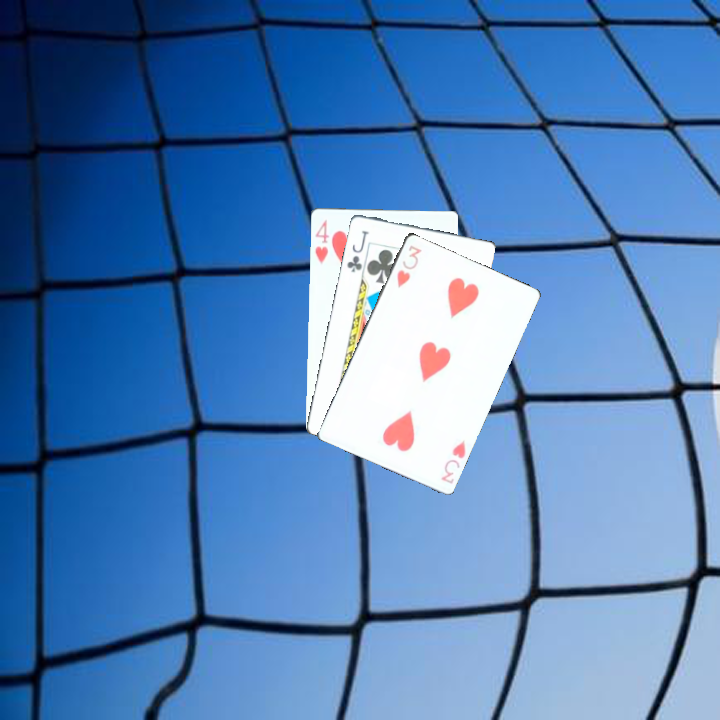3h: (436, 436, 468, 486), (393, 241, 424, 290)
4h: (311, 215, 331, 267)
Jc: (343, 226, 375, 277)
